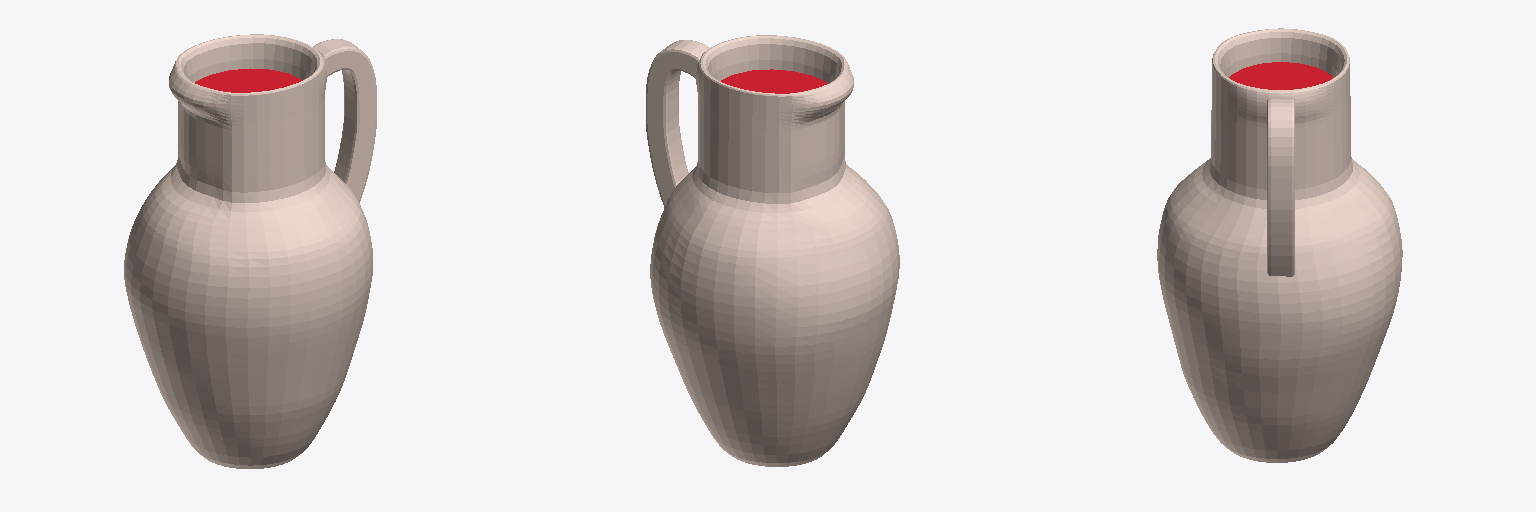
The model's file is madder_jug.obj.
The picture shows the model from 3 angles: view 1: azimuth 30°, elevation 25°; view 2: azimuth 150°, elevation 25°; view 3: azimuth 270°, elevation 25°; orthographic projection.
Visible parts, largest first — view 1: Cylinder002; view 2: Cylinder002; view 3: Cylinder002.
Part boxes in pixels (bbox=[...]): Cylinder002: bbox=[124, 34, 376, 468]; Cylinder002: bbox=[646, 35, 899, 466]; Cylinder002: bbox=[1157, 28, 1402, 462].
Bounding box in the file's own units: 21.79 × 34.82 × 19.99.